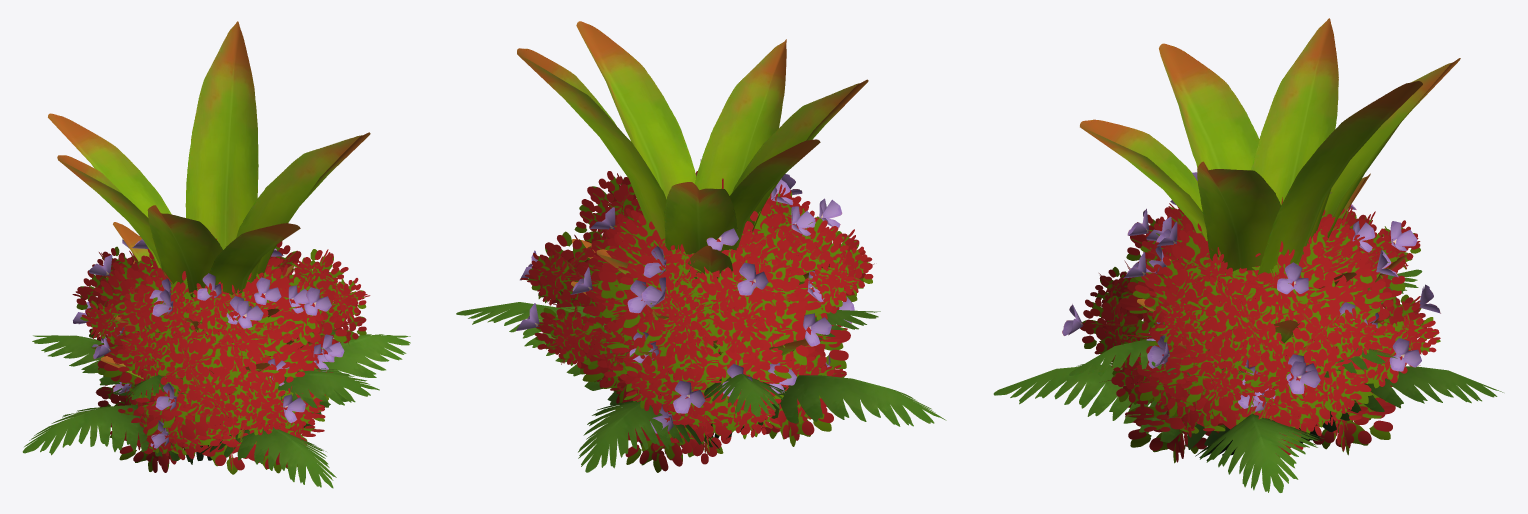
File: megakit-bushes.glb
3 views of the same model, side by side, from view 1: azimuth 30°, elevation 25°; view 2: azimuth 150°, elevation 25°; view 3: azimuth 270°, elevation 25° (orthographic). The views are drawn at different scales.
Visible parts, largest first — view 1: Bush_Common, Plant_1_Big, Bush_Common_Flowers, Fern_1; view 2: Bush_Common, Plant_1_Big, Bush_Common_Flowers, Fern_1; view 3: Bush_Common, Plant_1_Big, Bush_Common_Flowers, Fern_1.
Boxes of the visible parts, <box> form: Bush_Common: <box>72,239,370,472</box>; Plant_1_Big: <box>48,21,370,373</box>; Bush_Common_Flowers: <box>73,236,366,474</box>; Fern_1: <box>22,330,410,488</box>; Bush_Common: <box>520,171,874,471</box>; Plant_1_Big: <box>517,21,868,424</box>; Bush_Common_Flowers: <box>516,159,872,472</box>; Fern_1: <box>456,302,946,472</box>; Bush_Common: <box>1080,197,1440,462</box>; Plant_1_Big: <box>1080,18,1460,342</box>; Bush_Common_Flowers: <box>1062,172,1440,463</box>; Fern_1: <box>993,269,1503,492</box>.
Bounding box in the file's own units: 2.83 × 2.55 × 2.65.
Materials: 4 (4 with a texture image).
